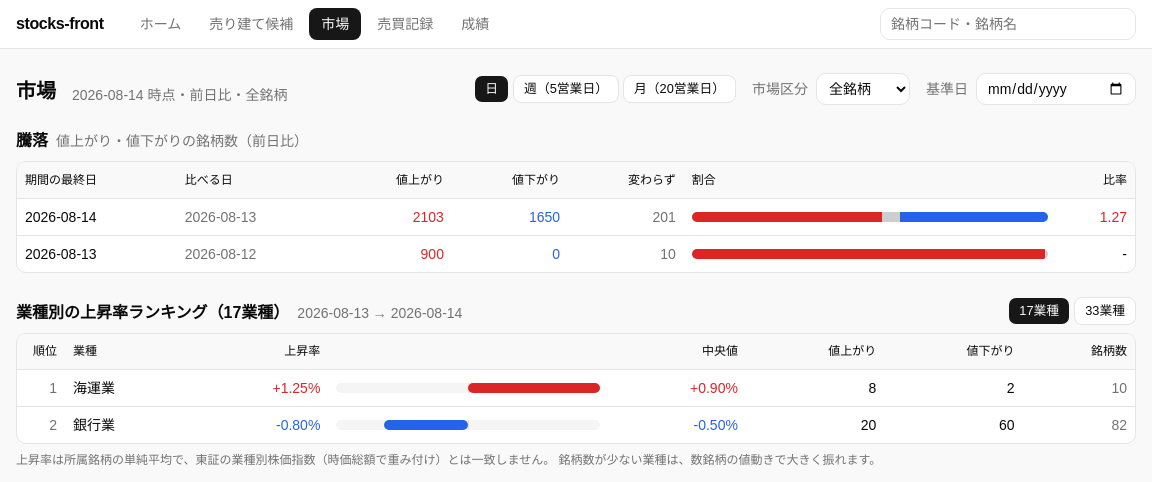
業種は17業種が既定で、33業種に切り替えられる
The width and height of the screenshot is (1152, 482).
Expected: the text "海運業" is shown, [65,370,190,406]
Expected: the heading "業種別の上昇率ランキング（17業種）2026-08-13 → 2026-08-14" is shown, [16,300,462,324]
Click the button "33業種" at [1105, 310], box [1074,296,1136,324]
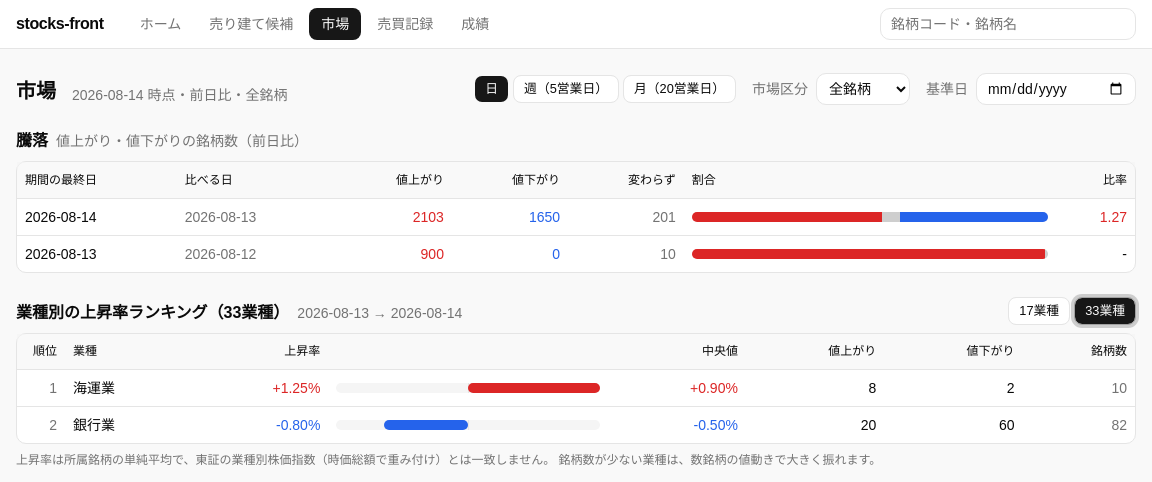
Expected: the heading "業種別の上昇率ランキング（33業種）2026-08-13 → 2026-08-14" is shown, [16,300,462,324]
